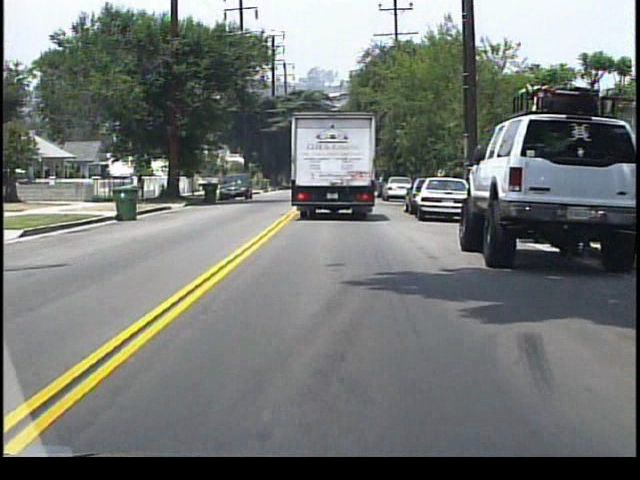person: (136, 172, 147, 200)
